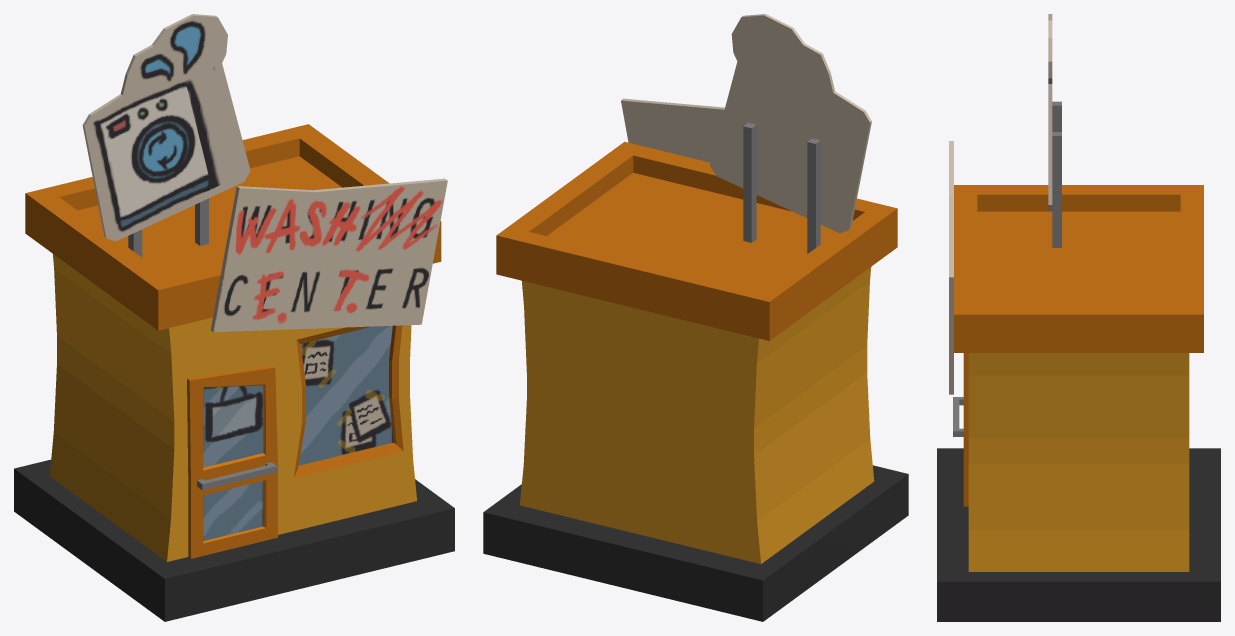
The model's file is SM_WashingCenter.fbx.
The picture shows the model from 3 angles, left to right: view 1: azimuth 30°, elevation 25°; view 2: azimuth 150°, elevation 25°; view 3: azimuth 270°, elevation 25°; orthographic projection. The views are drawn at different scales.
Visible parts, largest first — view 1: wash.003, Cube.002; view 2: wash.003, Cube.002; view 3: wash.003, Cube.002.
Boxes of the visible parts, x1,y1,x2,y2 form: wash.003: (25, 14, 447, 561); Cube.002: (14, 459, 454, 621); wash.003: (496, 14, 897, 563); Cube.002: (483, 465, 908, 621); wash.003: (949, 14, 1203, 571); Cube.002: (937, 448, 1220, 621).
Size of the model in its own units: 306 by 509 by 257.
